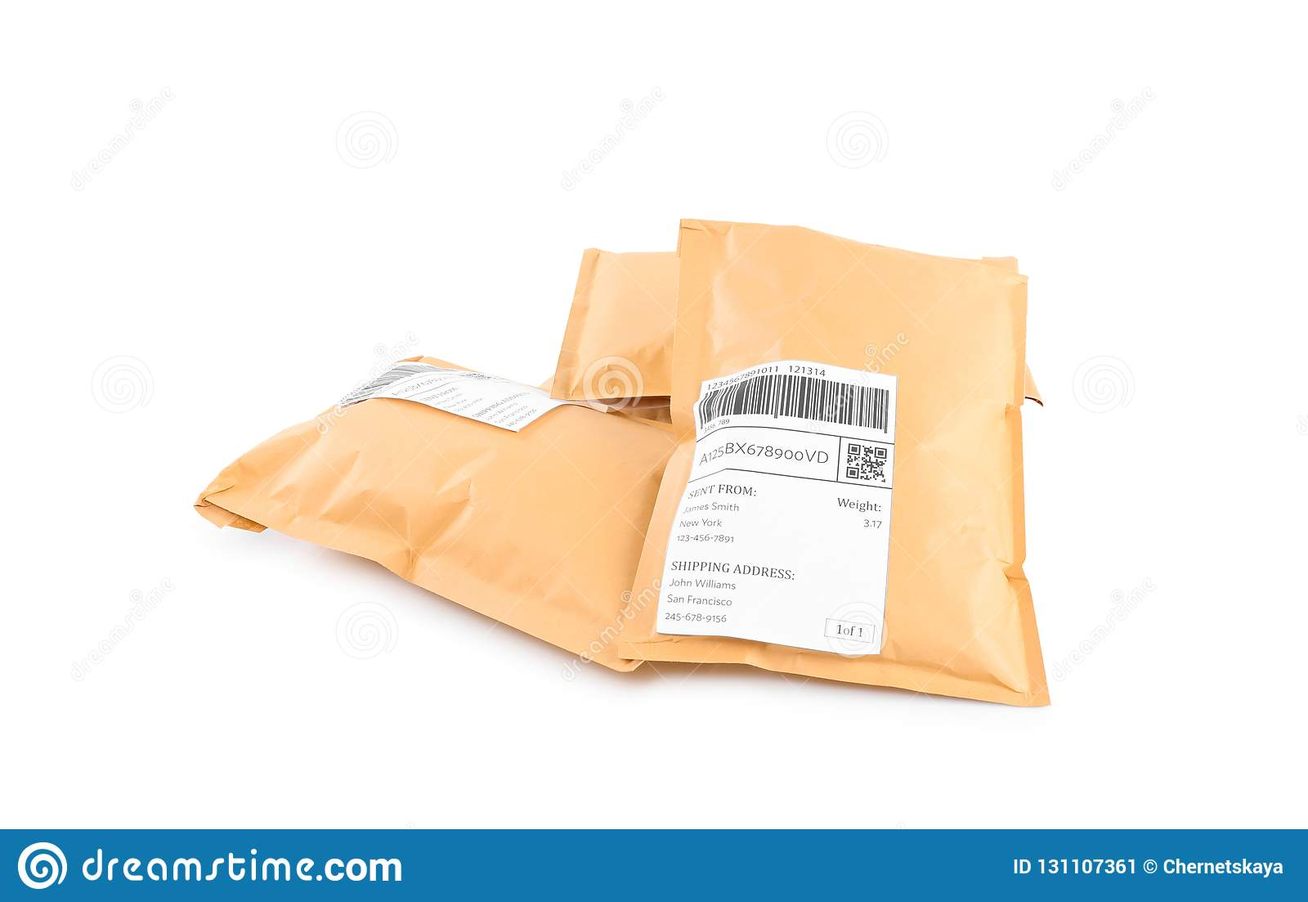Parcel: (618, 219, 1051, 706), (199, 352, 785, 673)
